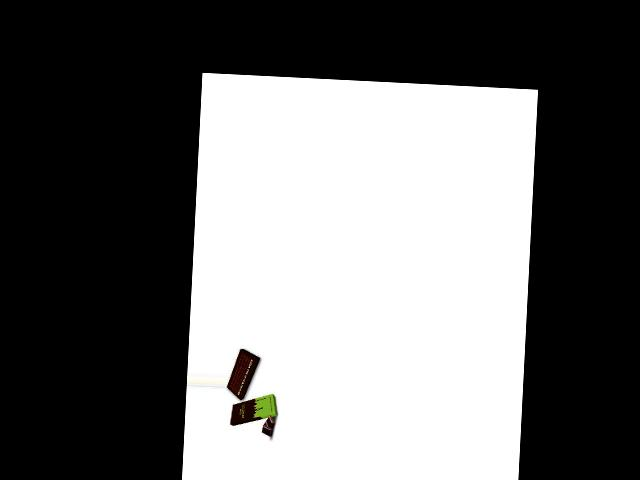chocolate: (229, 394, 279, 424)
